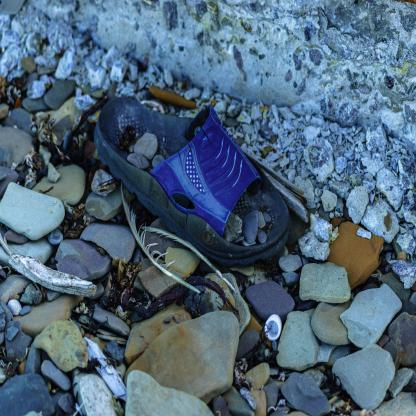plastik: (265, 314, 285, 342)
